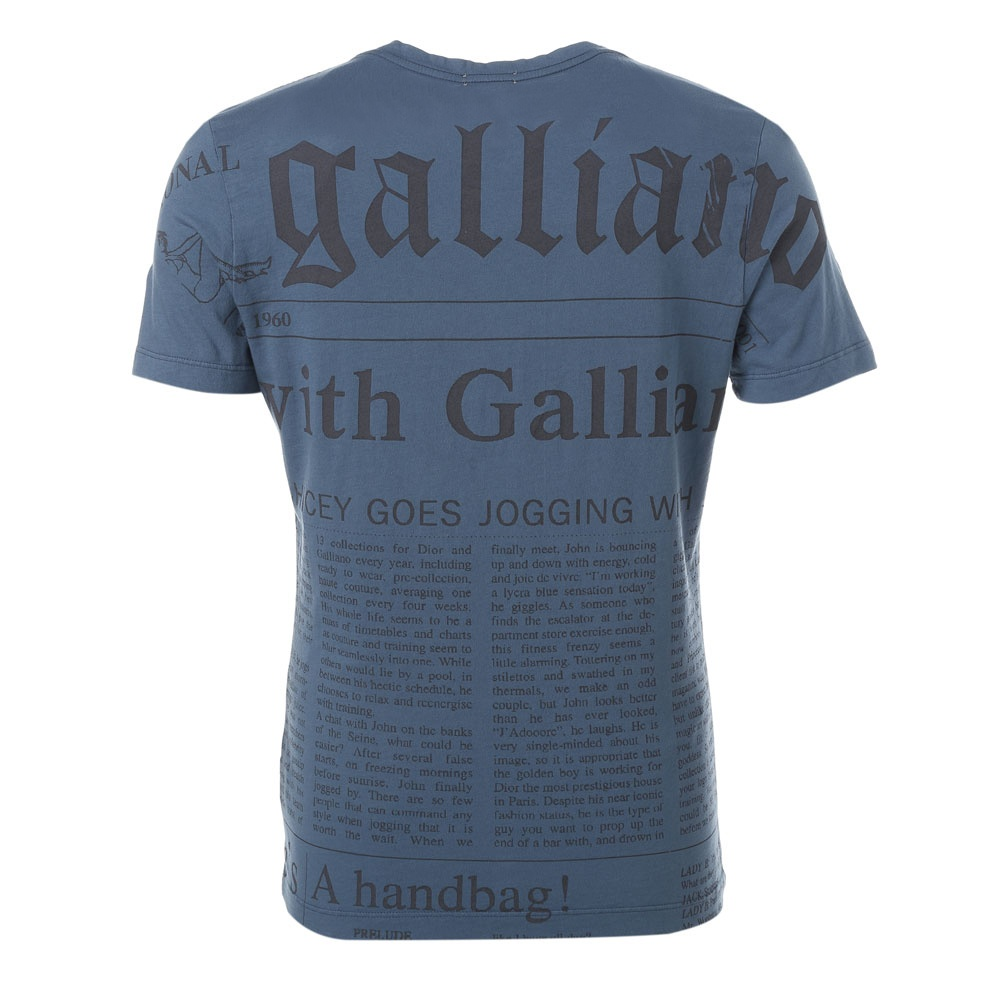flexible: (133, 33, 882, 950)
